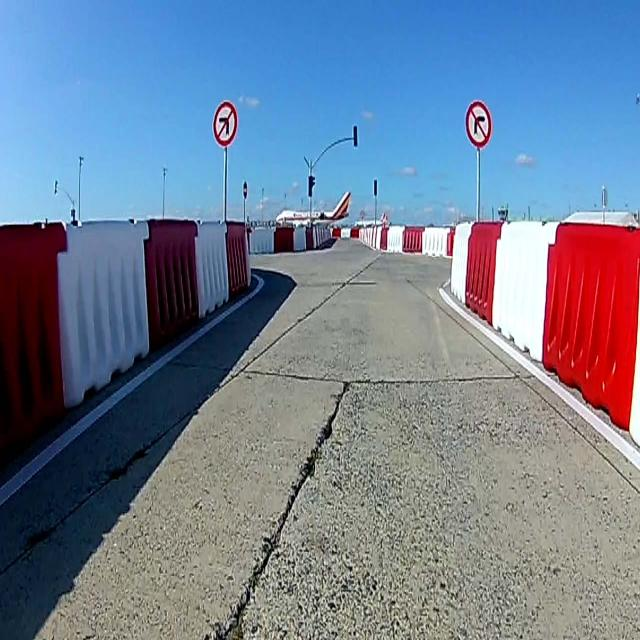sagadonulmez: (464, 100, 492, 145)
soladonulmez: (212, 100, 236, 148)
